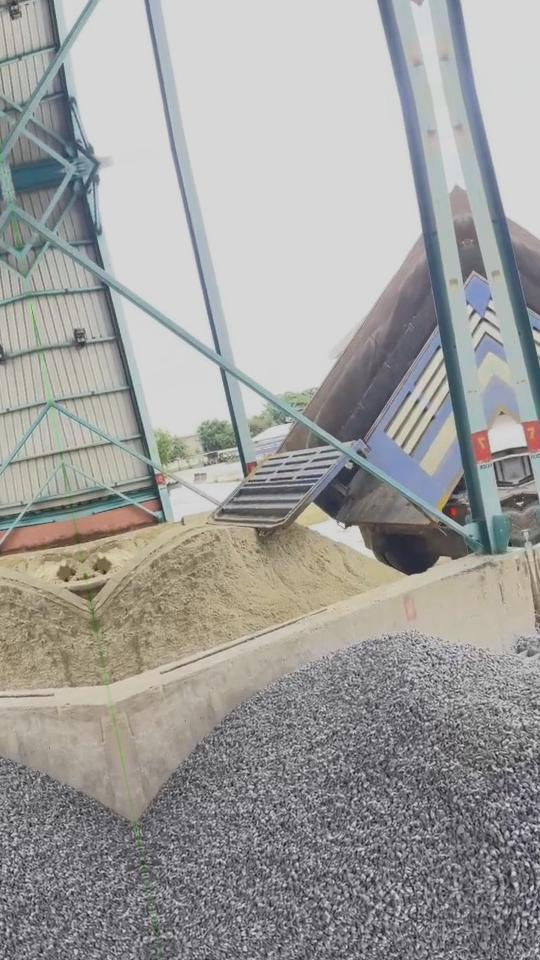gravel: (140, 632, 540, 949), (516, 631, 540, 667)
sand: (91, 523, 401, 681), (84, 538, 149, 578)
